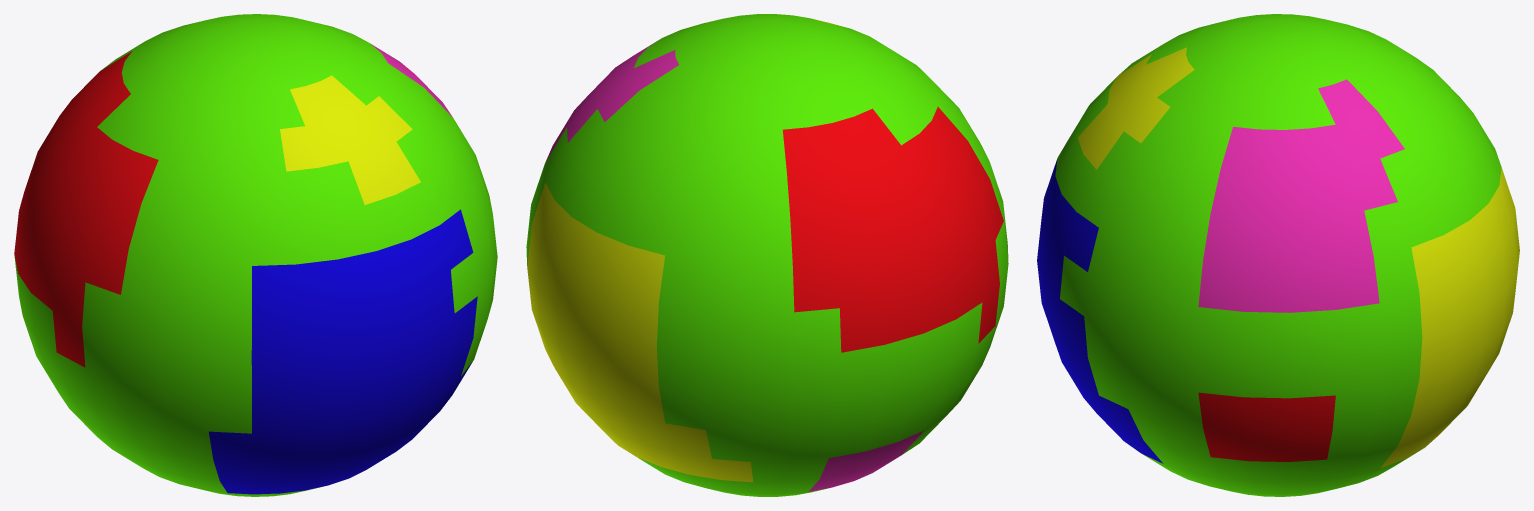
File: ball.fbx
3 views of the same model, side by side, from view 1: azimuth 30°, elevation 25°; view 2: azimuth 150°, elevation 25°; view 3: azimuth 270°, elevation 25° (orthographic).
Parts seen in each view (by area): view 1: Ball; view 2: Ball; view 3: Ball.
Part boxes in pixels (x1,y1,x2,y2): Ball: (14,14,497,496); Ball: (526,14,1008,496); Ball: (1037,14,1519,496).
Bounding box in the file's own units: 86.01 × 86.01 × 86.11.
